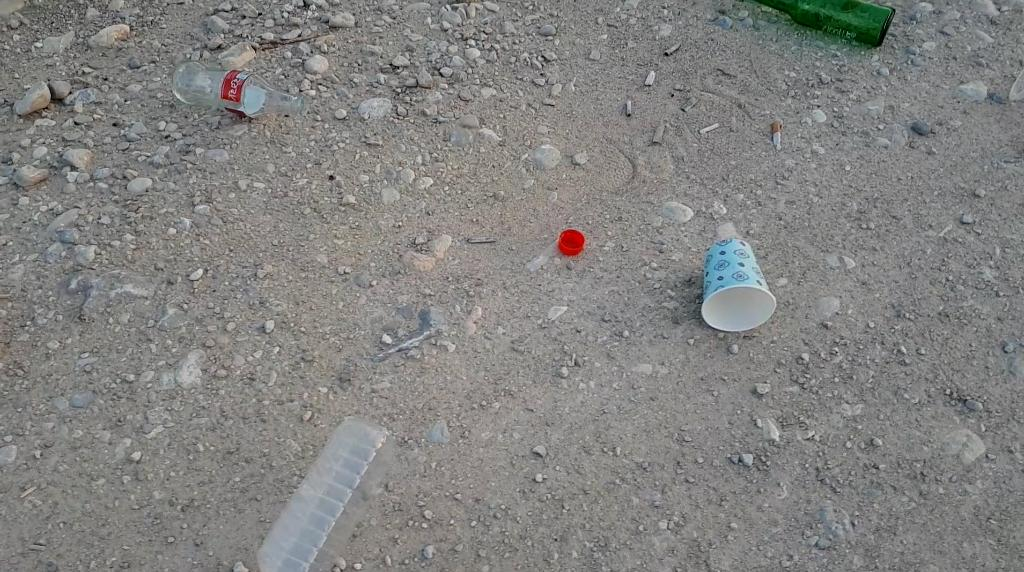garbage: (256, 417, 397, 572), (130, 45, 312, 140), (679, 236, 776, 343), (170, 60, 309, 118), (754, 0, 895, 47)
